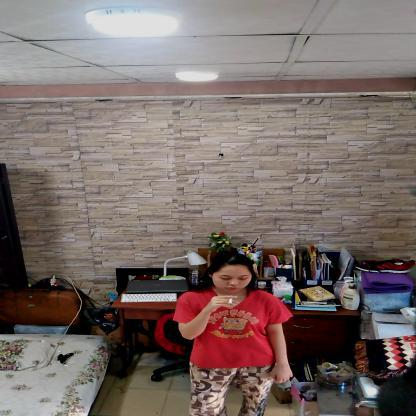cigarette: (228, 298, 233, 304)
person: (171, 252, 295, 416)
